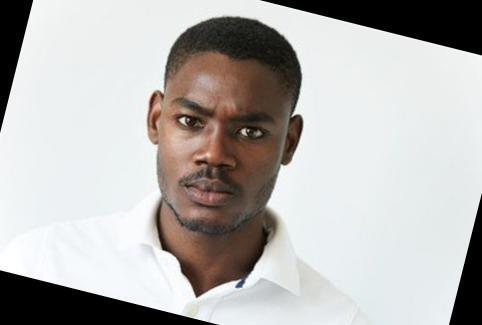Sober: (162, 53, 282, 222)
